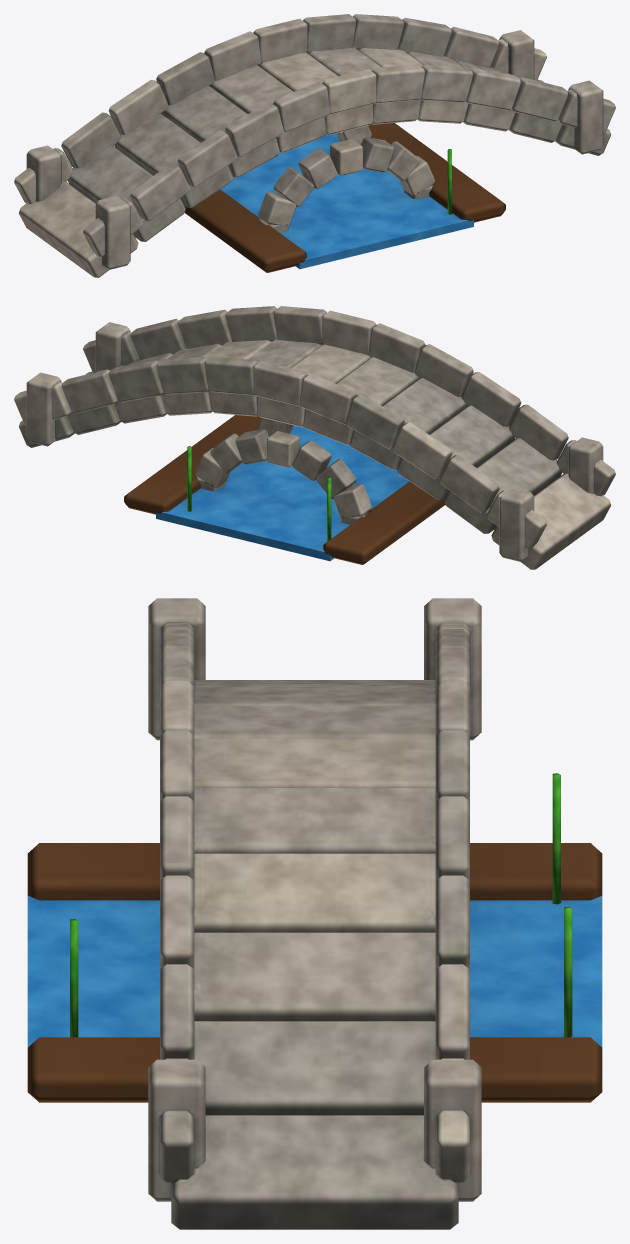
File: stone_bridge.glb
3 renders of one model, top to bottom at view 1: azimuth 30°, elevation 25°; view 2: azimuth 150°, elevation 25°; view 3: azimuth 270°, elevation 25°, orthographic. The views are drawn at different scales.
Visible parts, largest first — view 1: stone_bridge; view 2: stone_bridge; view 3: stone_bridge.
Part boxes in pixels (bbox=[...]): stone_bridge: bbox=[14, 14, 615, 277]; stone_bridge: bbox=[14, 306, 615, 569]; stone_bridge: bbox=[27, 598, 602, 1229].
Size of the model in its own units: 2.12 by 0.5899 by 1.
1 material, 1 textured.
